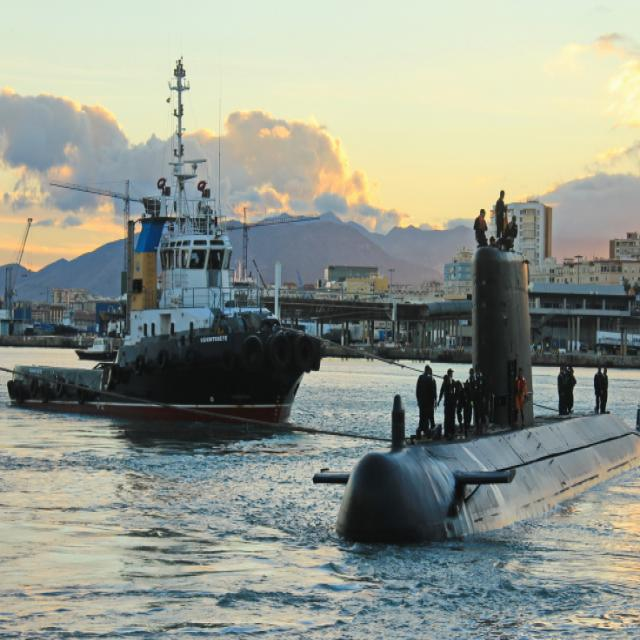submarine: (309, 244, 640, 550)
